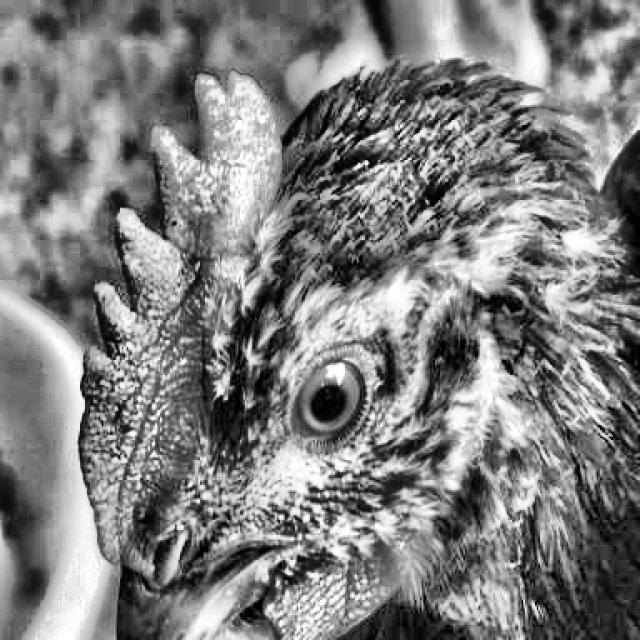Healthy: (267, 330, 398, 468)
